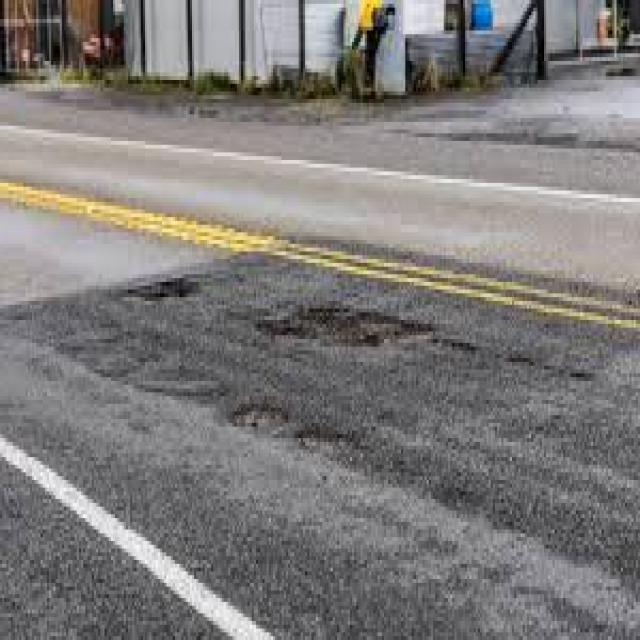pothole: (255, 291, 435, 350), (120, 272, 207, 307), (304, 428, 374, 471), (235, 394, 293, 437)
